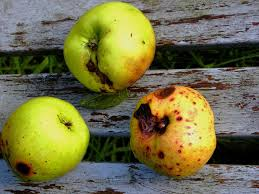damaged_apple: (129, 86, 219, 178), (61, 3, 156, 88), (2, 97, 90, 182)
